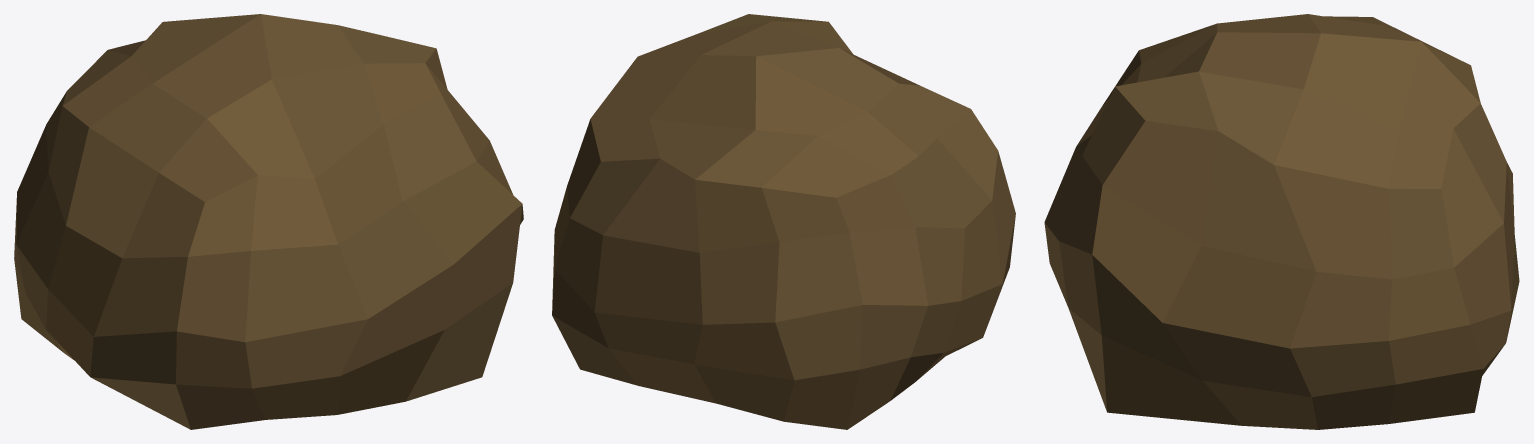
File: rock 1.fbx
3 views of the same model, side by side, from view 1: azimuth 30°, elevation 25°; view 2: azimuth 150°, elevation 25°; view 3: azimuth 270°, elevation 25° (orthographic). The views are drawn at different scales.
Parts seen in each view (by area): view 1: rock 1; view 2: rock 1; view 3: rock 1.
Part boxes in pixels (left/top/right/bottom): rock 1: left=14, top=14, right=523, bottom=429; rock 1: left=552, top=14, right=1015, bottom=429; rock 1: left=1044, top=14, right=1519, bottom=429.
Size of the model in its own units: 640 by 454 by 605.
